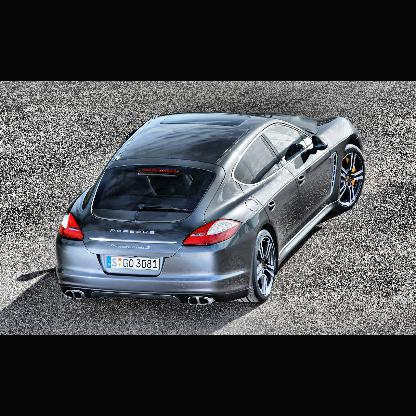Porsche Panamera Sedan 2012: (56, 111, 368, 307)
